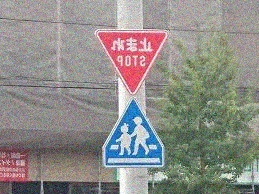Regulatory_sign_triangle: (94, 23, 167, 92)
